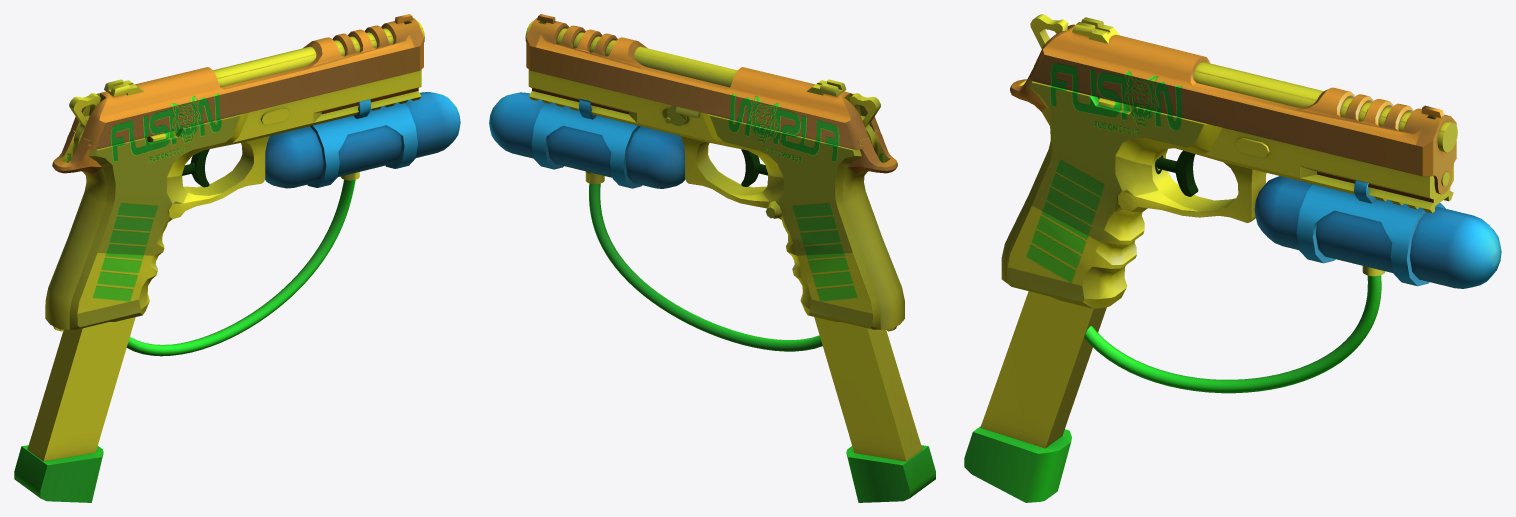
The picture shows the model from 3 angles, left to right: view 1: azimuth 30°, elevation 25°; view 2: azimuth 150°, elevation 25°; view 3: azimuth 330°, elevation 25°; orthographic projection. The views are drawn at different scales.
Visible parts, largest first — view 1: Gun_Root; view 2: Gun_Root; view 3: Gun_Root.
Part boxes in pixels (x1,y1,x2,y2): Gun_Root: (14,14,460,502); Gun_Root: (489,14,935,502); Gun_Root: (964,14,1501,502).
Size of the model in its own units: 0.2584 by 0.2312 by 0.0378.
4 materials, 4 textured.
